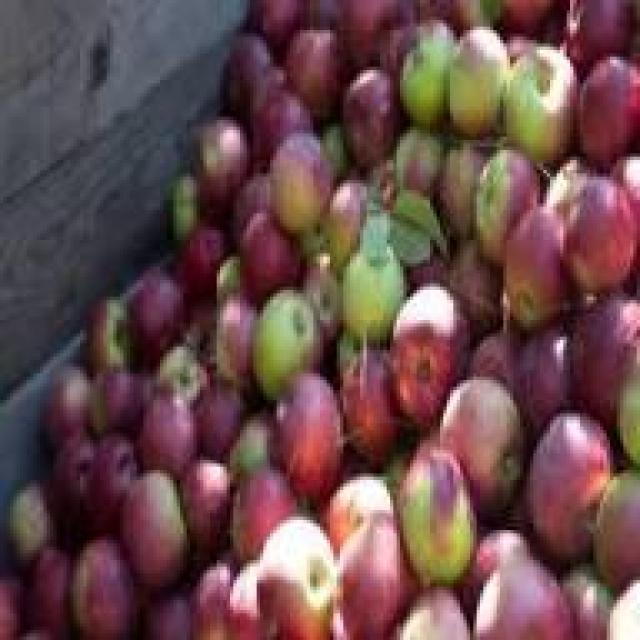apple: (246, 517, 336, 630), (474, 144, 554, 264), (496, 50, 576, 163), (410, 454, 477, 564), (127, 390, 203, 483), (113, 470, 180, 573), (253, 300, 327, 393), (347, 230, 400, 337), (400, 23, 457, 117), (453, 33, 500, 117)
